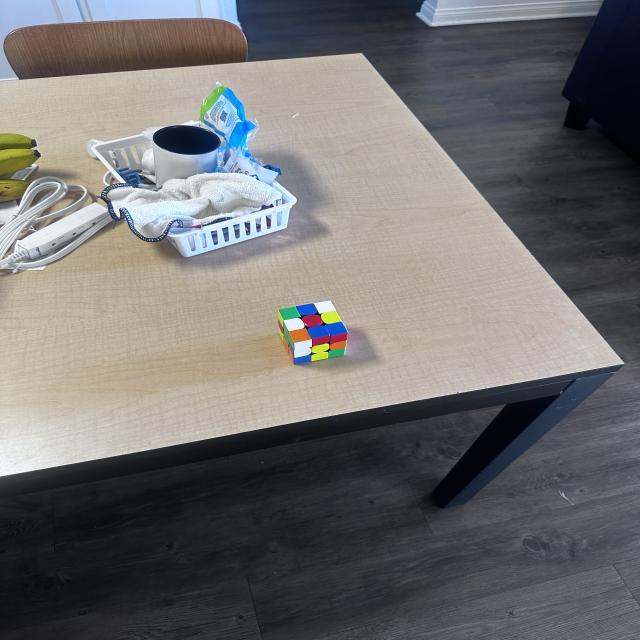sticker: (283, 317, 306, 332), (307, 325, 331, 339), (326, 322, 349, 336), (314, 300, 336, 314), (302, 314, 324, 328), (320, 311, 342, 325), (289, 329, 311, 343), (279, 307, 301, 320), (296, 303, 318, 316)
